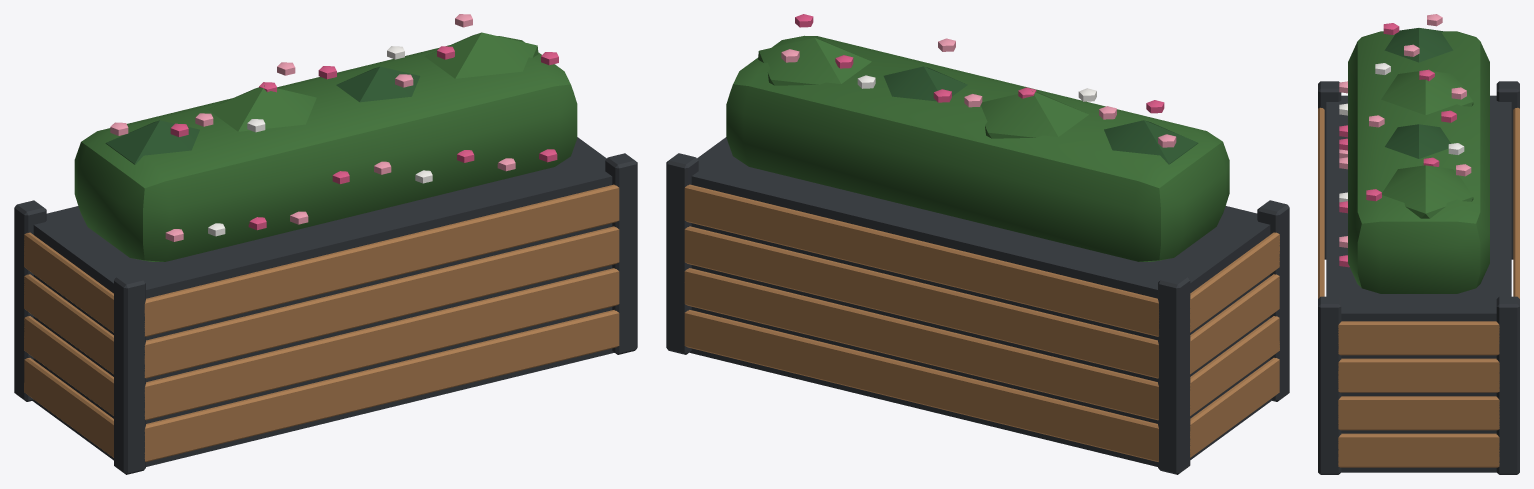
File: SC_Str_Planter_Street.gltf
3 views of the same model, side by side, from view 1: azimuth 30°, elevation 25°; view 2: azimuth 150°, elevation 25°; view 3: azimuth 270°, elevation 25° (orthographic). The views are drawn at different scales.
Parts seen in each view (by area): view 1: SC_Str_Planter_Street; view 2: SC_Str_Planter_Street; view 3: SC_Str_Planter_Street.
Boxes of the visible parts, x1=… form: SC_Str_Planter_Street: x1=14, y1=14, x2=637, y2=474; SC_Str_Planter_Street: x1=666, y1=14, x2=1289, y2=474; SC_Str_Planter_Street: x1=1318, y1=14, x2=1519, y2=474.
Bounding box in the file's own units: 1.61 × 0.9054 × 0.61.
Materials: 1 (1 with a texture image).
